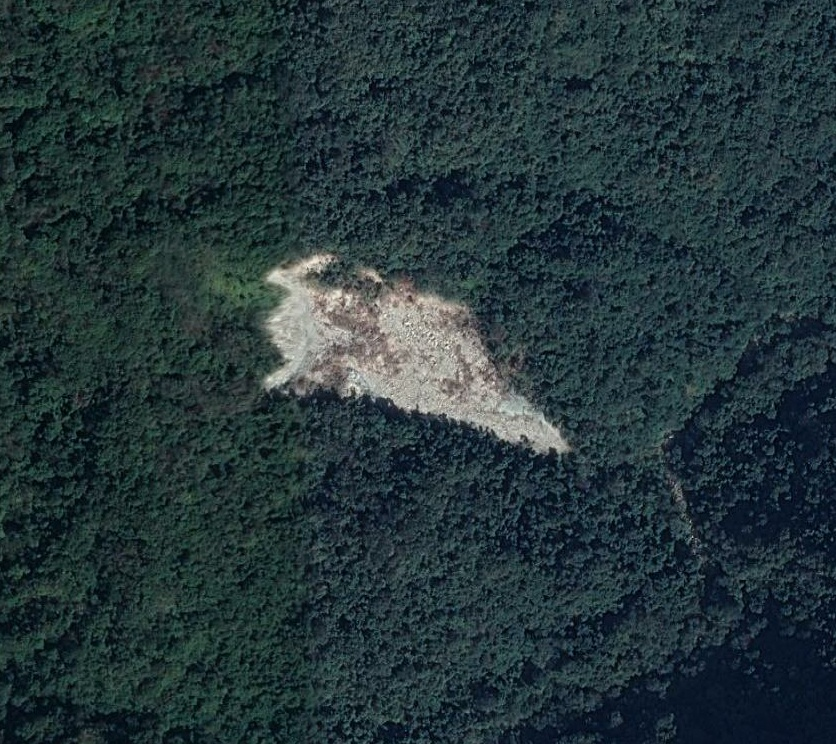slope: (255, 244, 577, 457)
